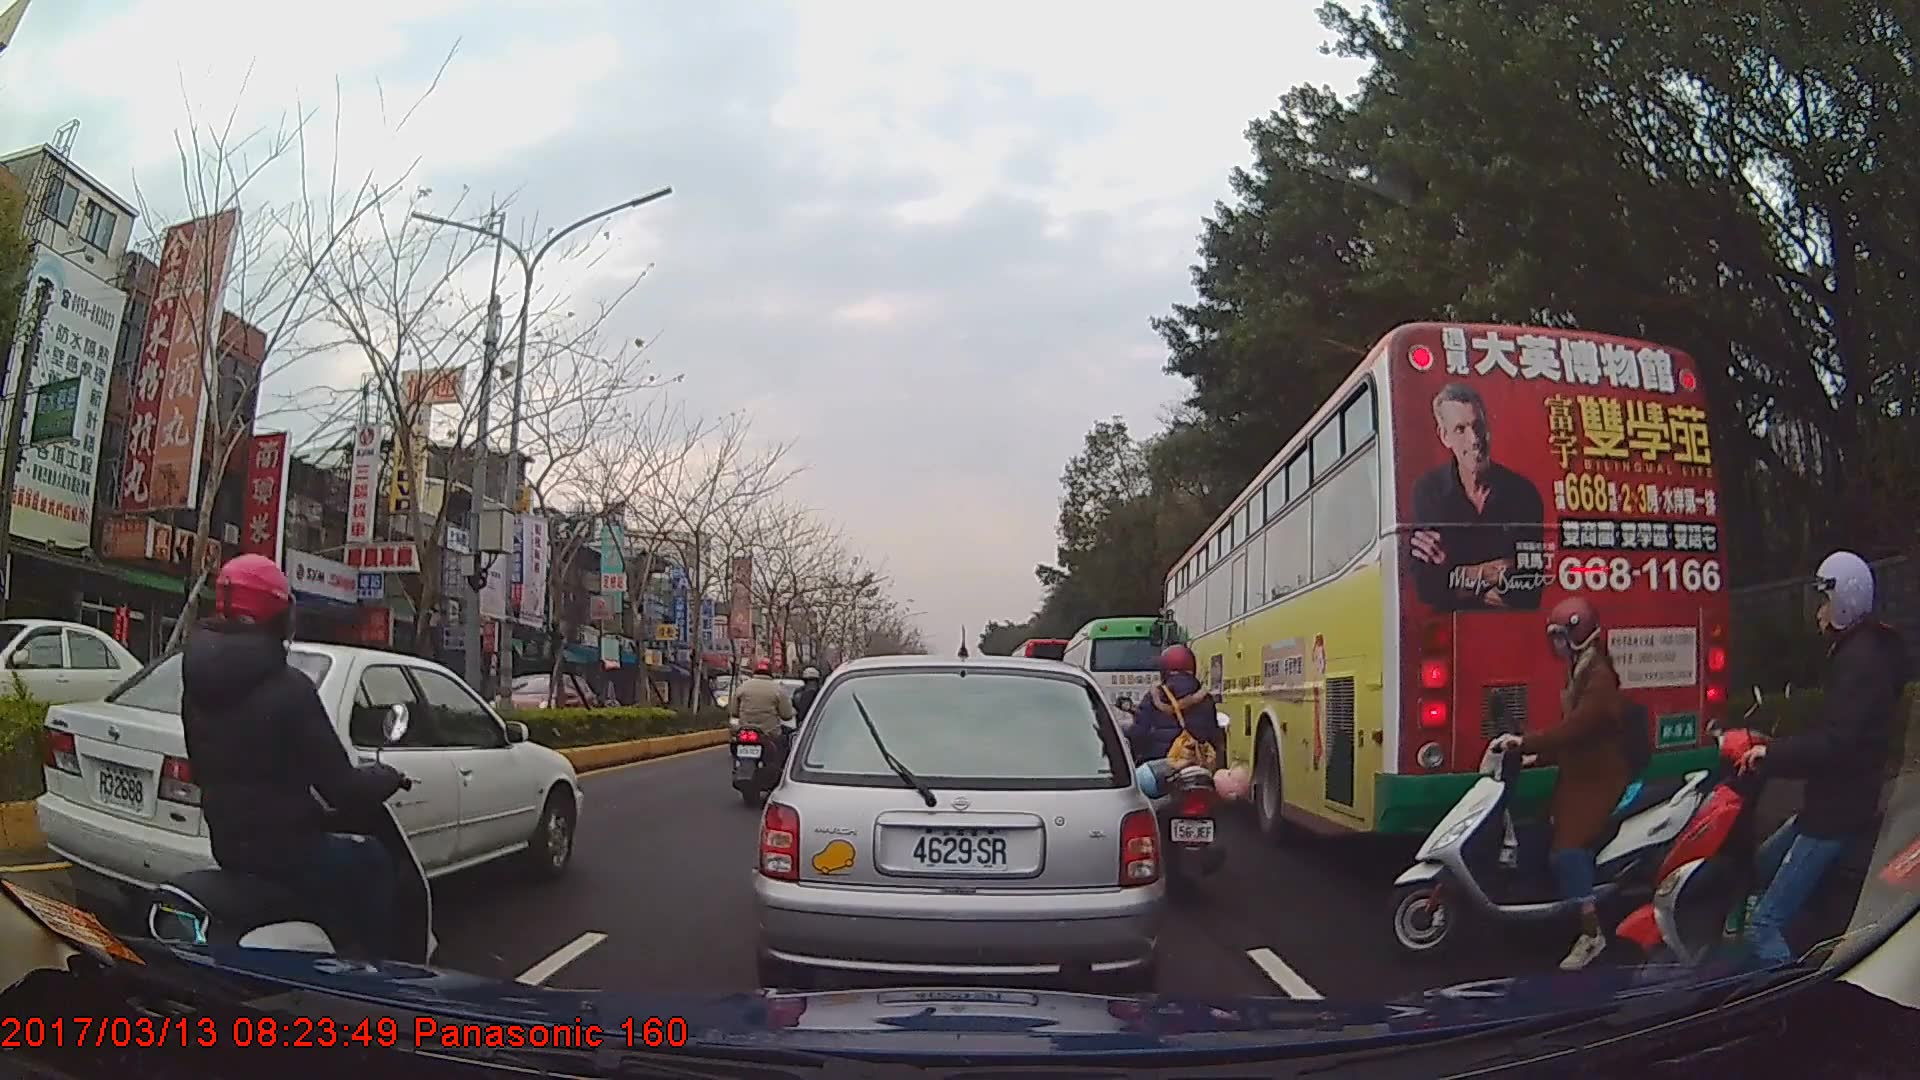rider: (147, 552, 443, 1003), (1620, 553, 1911, 1000), (1376, 593, 1718, 970), (1119, 647, 1251, 901), (728, 656, 792, 808)
vehicle: (1159, 319, 1731, 846), (45, 630, 585, 935), (748, 655, 1164, 992), (0, 616, 195, 749), (1059, 615, 1171, 756), (491, 670, 597, 737)
